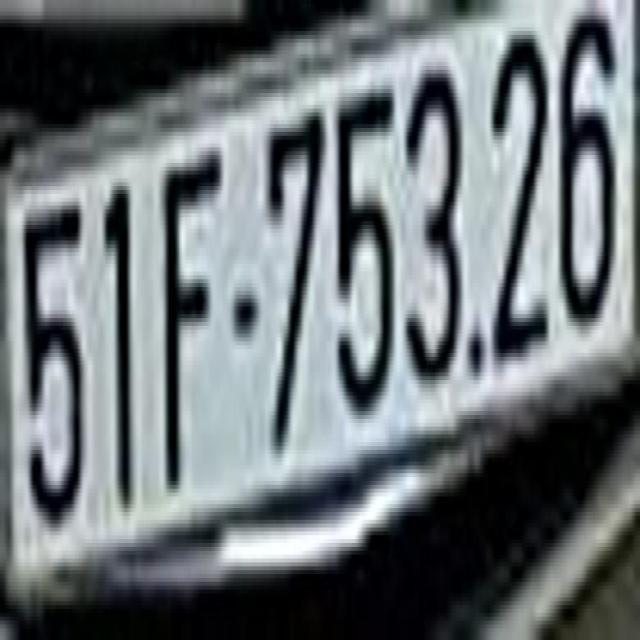1: (110, 159, 131, 516)
2: (492, 20, 548, 372)
3: (406, 42, 464, 376)
5: (342, 81, 396, 426), (30, 186, 84, 528)
6: (560, 0, 618, 314)
7: (268, 97, 325, 434)
F: (164, 124, 224, 489)
